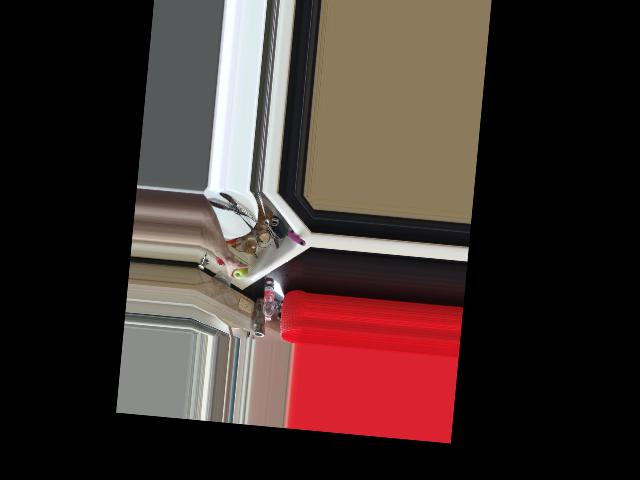apple: (232, 262, 247, 281)
